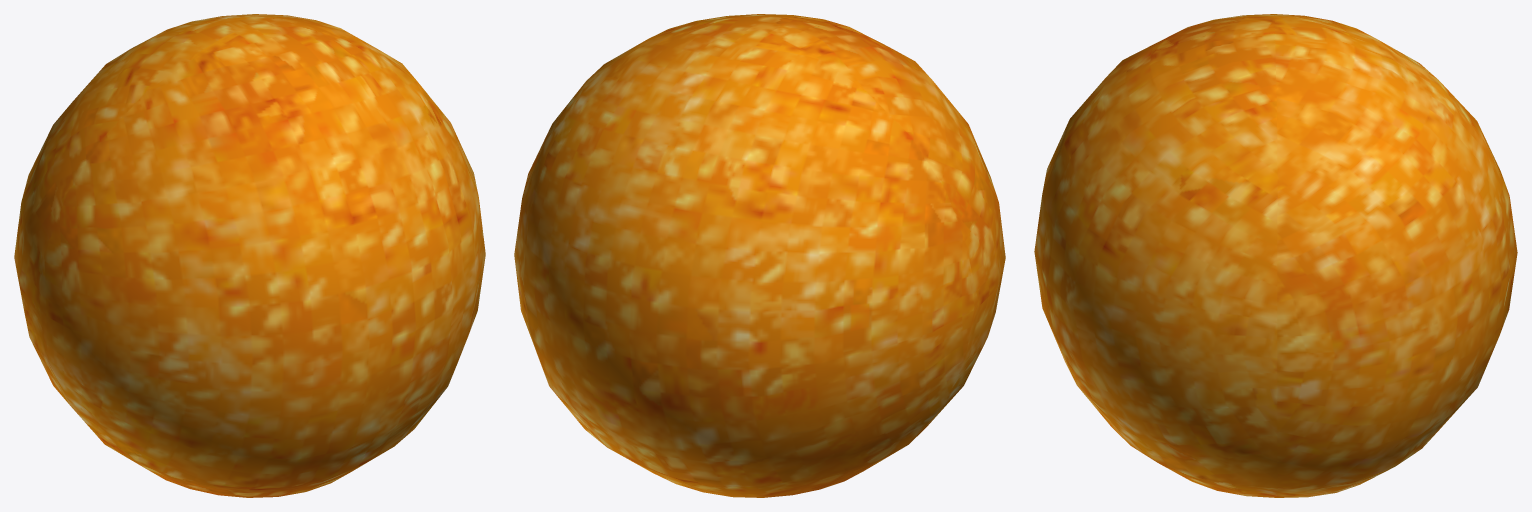
Rendered from ref_bfsesameball.glb.
3 views of the same model, side by side, from view 1: azimuth 30°, elevation 25°; view 2: azimuth 150°, elevation 25°; view 3: azimuth 270°, elevation 25° (orthographic).
Visible parts, largest first — view 1: ref_bfsesameball; view 2: ref_bfsesameball; view 3: ref_bfsesameball.
Boxes of the visible parts, x1,y1,x2,y2 form: ref_bfsesameball: [14, 14, 485, 497]; ref_bfsesameball: [514, 14, 1005, 497]; ref_bfsesameball: [1034, 14, 1517, 497].
Size of the model in its own units: 1 by 0.9973 by 0.9965.
1 material, 1 textured.
